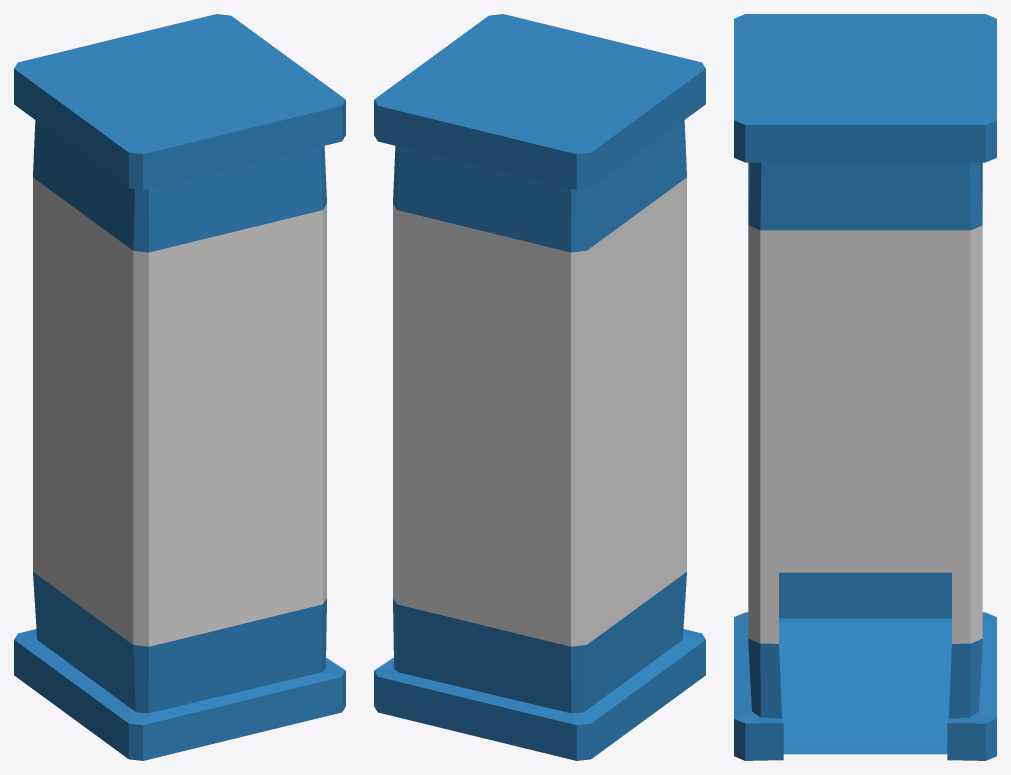
File: dispenser.fbx
3 views of the same model, side by side, from view 1: azimuth 30°, elevation 25°; view 2: azimuth 150°, elevation 25°; view 3: azimuth 270°, elevation 25° (orthographic). The views are drawn at different scales.
Visible parts, largest first — view 1: dispenser; view 2: dispenser; view 3: dispenser.
Part boxes in pixels (left/top/right/bottom): dispenser: left=14, top=14, right=345, bottom=760; dispenser: left=374, top=14, right=705, bottom=760; dispenser: left=734, top=14, right=996, bottom=760.
Size of the model in its own units: 167 by 446 by 167.
